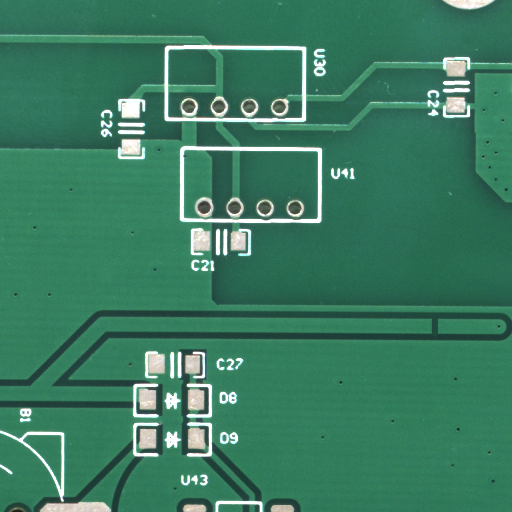Open_circuit: (435, 325, 447, 348)
